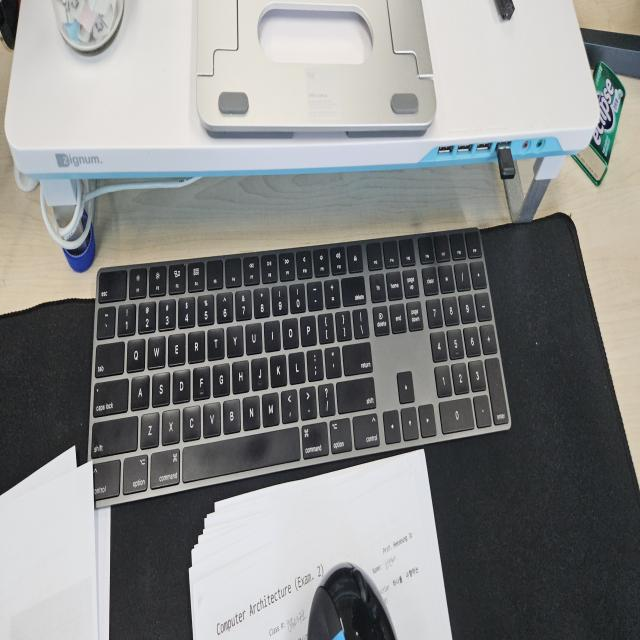Keyboard: (86, 226, 512, 508)
Mouse: (306, 558, 398, 637)
